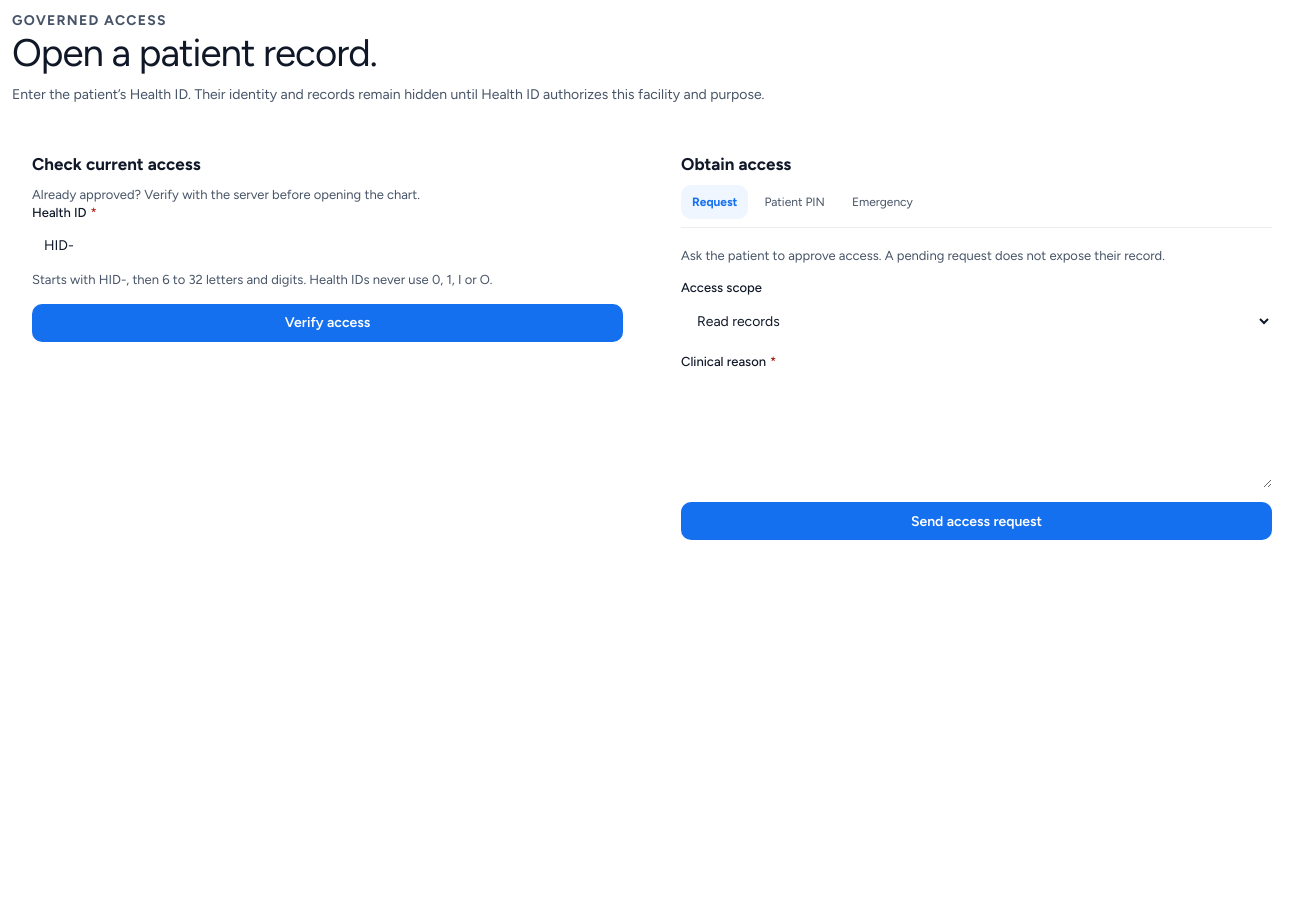
Test: the break-glass notice (owner decision O12) › on Novu, says verified emergency contacts are told, with the staff member’s name, and never the reason
Click the button "Emergency" at (882, 202), box [841,185,924,219]
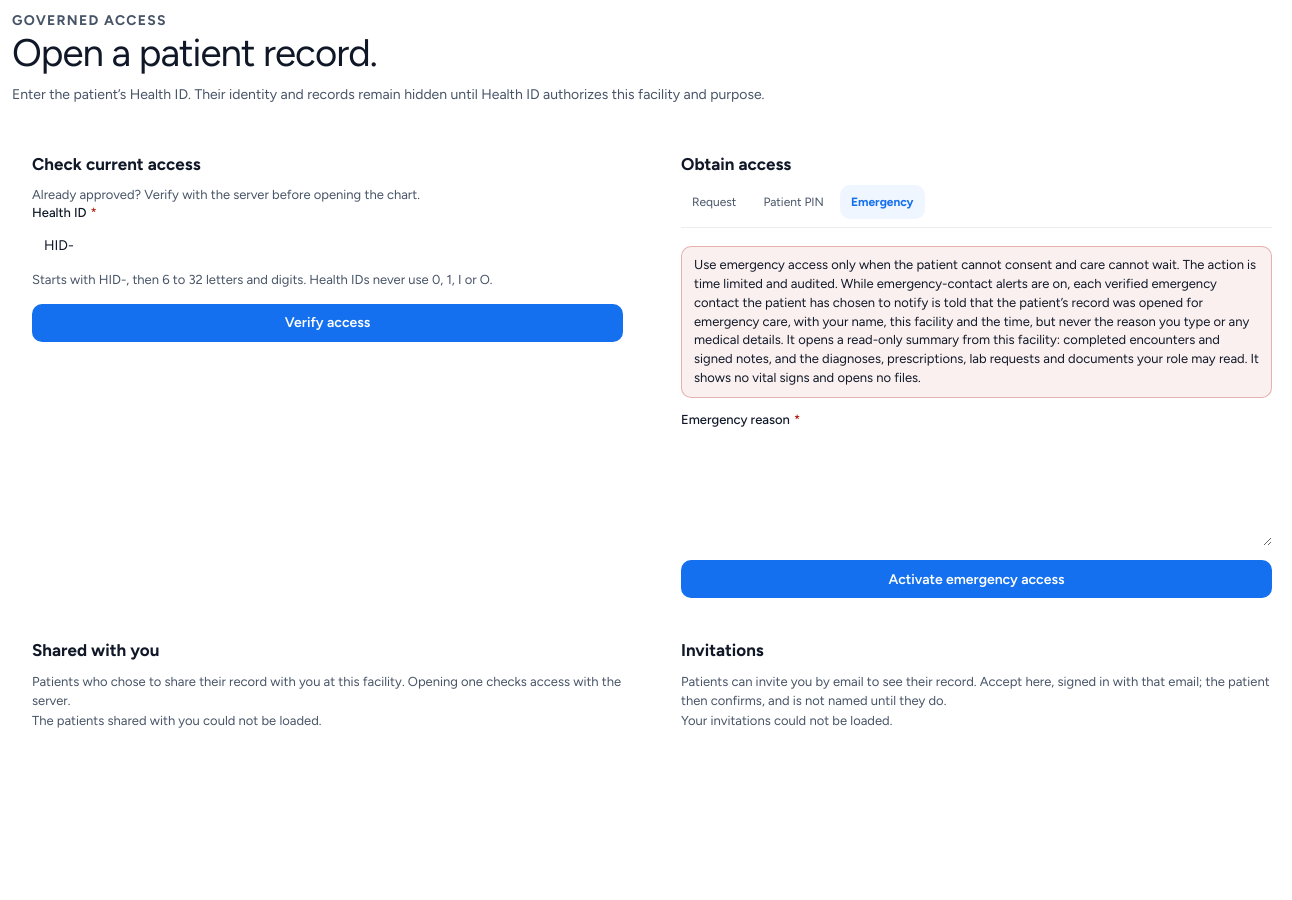
Check: the text with class "staff-danger" is shown, box [681,246,1272,398]
